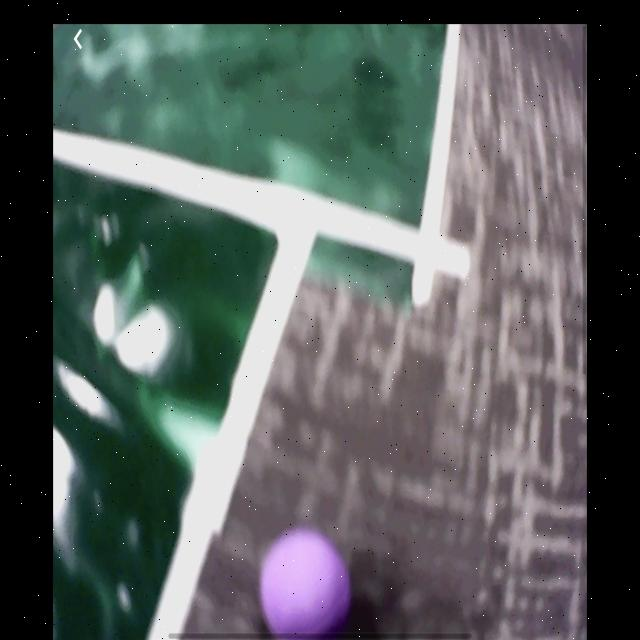ball: (258, 525, 353, 637)
